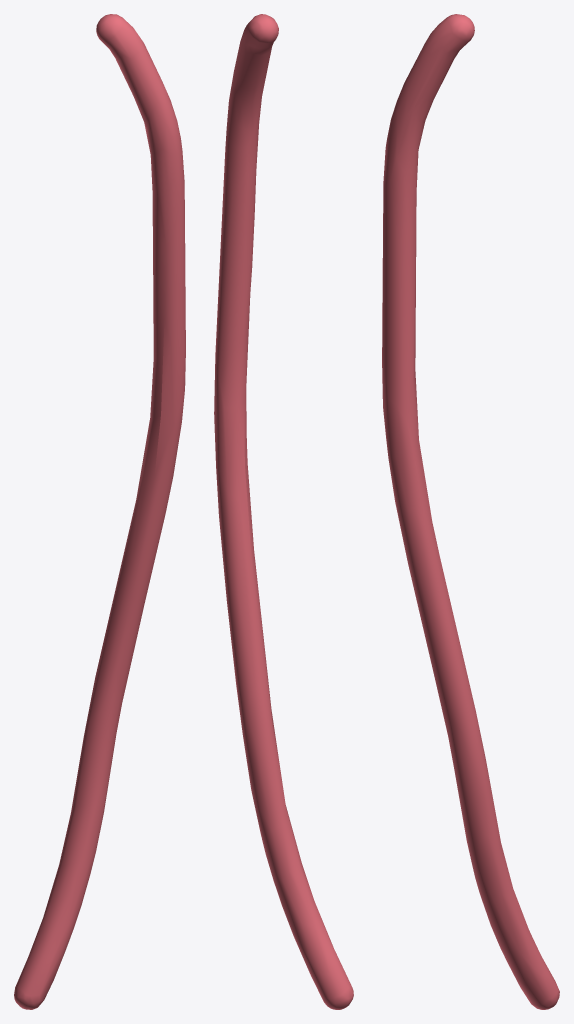
Rendered from fma20731_fj2143.glb.
3 views of the same model, side by side, from view 1: azimuth 90°, elevation 25°; view 2: azimuth 210°, elevation 25°; view 3: azimuth 270°, elevation 25° (orthographic). The views are drawn at different scales.
Parts seen in each view (by area): view 1: FMA20731_FJ2143; view 2: FMA20731_FJ2143; view 3: FMA20731_FJ2143.
Part boxes in pixels (<box>): FMA20731_FJ2143: <box>14,14,185,1009</box>; FMA20731_FJ2143: <box>214,14,353,1009</box>; FMA20731_FJ2143: <box>382,14,559,1009</box>.
Bounding box in the file's own units: 0.0284 × 0.3598 × 0.0575.
